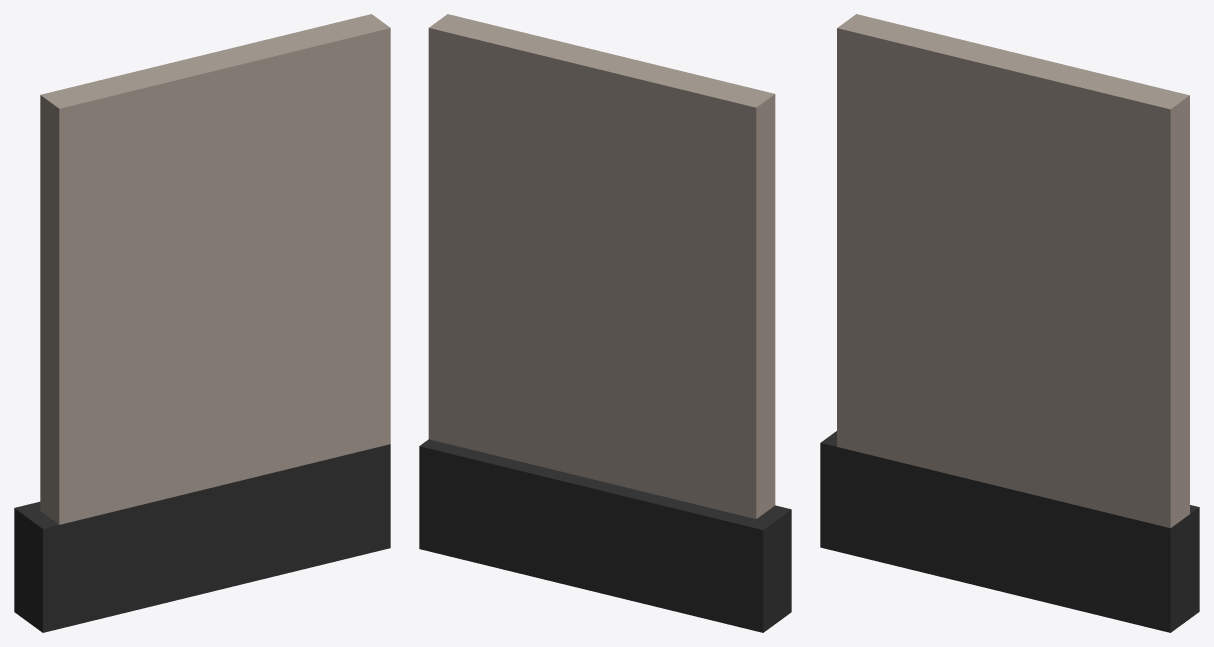
Rendered from Parede_direita.fbx.
3 views of the same model, side by side, from view 1: azimuth 30°, elevation 25°; view 2: azimuth 150°, elevation 25°; view 3: azimuth 330°, elevation 25° (orthographic).
Parts seen in each view (by area): view 1: Parede.045; view 2: Parede.045; view 3: Parede.045.
Part boxes in pixels (left/top/right/bottom): Parede.045: left=14, top=14, right=390, bottom=632; Parede.045: left=419, top=14, right=791, bottom=632; Parede.045: left=820, top=14, right=1199, bottom=632.
Size of the model in its own units: 210 by 300 by 30.01.
